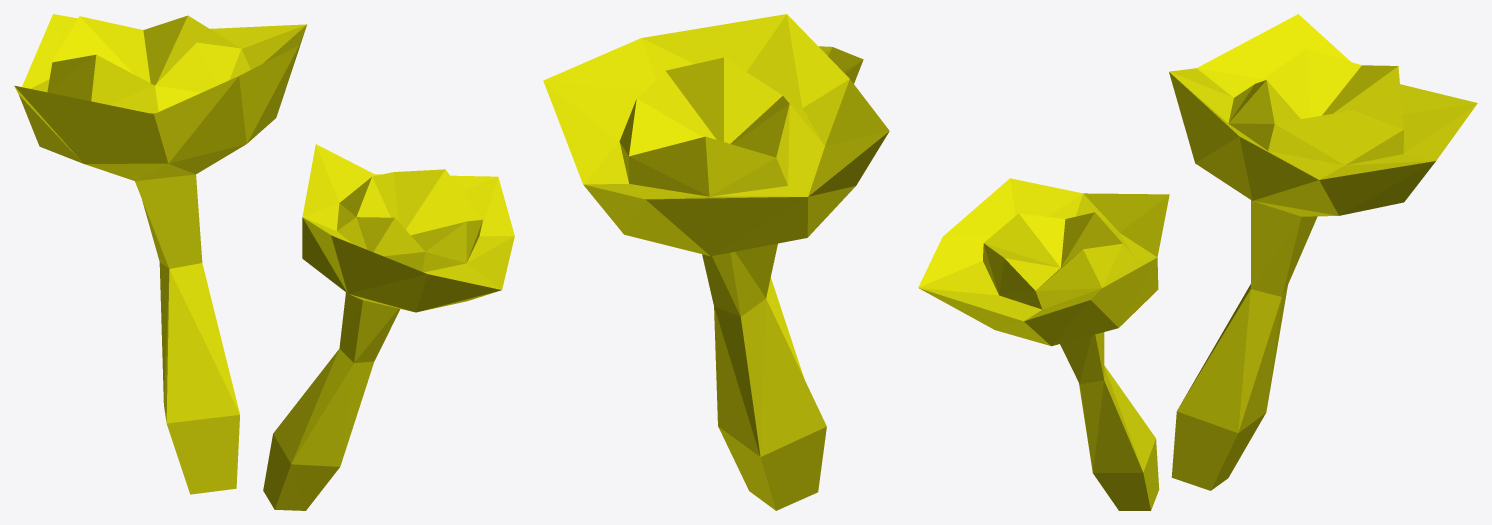
Rendered from SM_Env_Flower_02.glb.
The picture shows the model from 3 angles, left to right: view 1: azimuth 30°, elevation 25°; view 2: azimuth 150°, elevation 25°; view 3: azimuth 270°, elevation 25°; orthographic projection. The views are drawn at different scales.
Visible parts, largest first — view 1: SM_Env_Flower_02; view 2: SM_Env_Flower_02; view 3: SM_Env_Flower_02.
Boxes of the visible parts, x1,y1,x2,y2 form: SM_Env_Flower_02: (14,14,514,510); SM_Env_Flower_02: (543,14,889,510); SM_Env_Flower_02: (918,14,1477,510).
Size of the model in its own units: 0.2997 by 0.3228 by 0.3905.
Materials: 1 (1 with a texture image).
